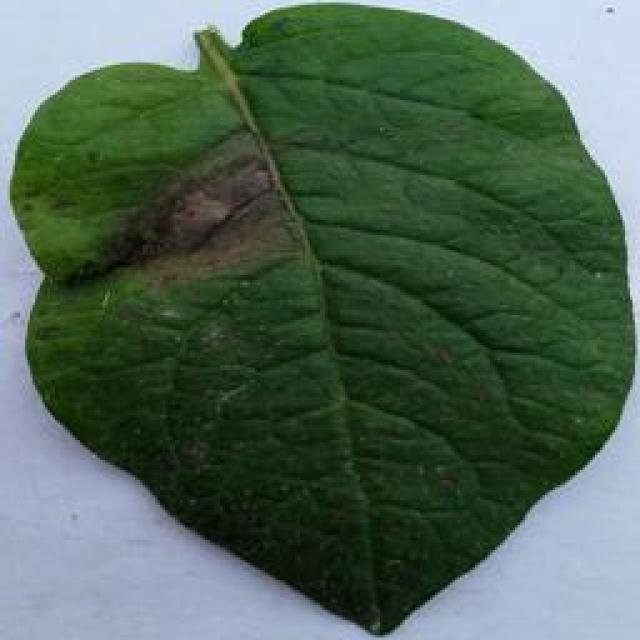Potato_Late_Blight: (12, 7, 627, 634)
